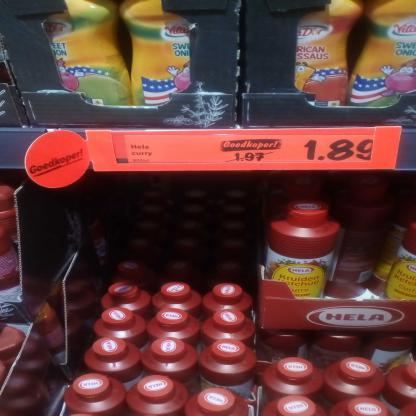prtg: (125, 136, 375, 165)
